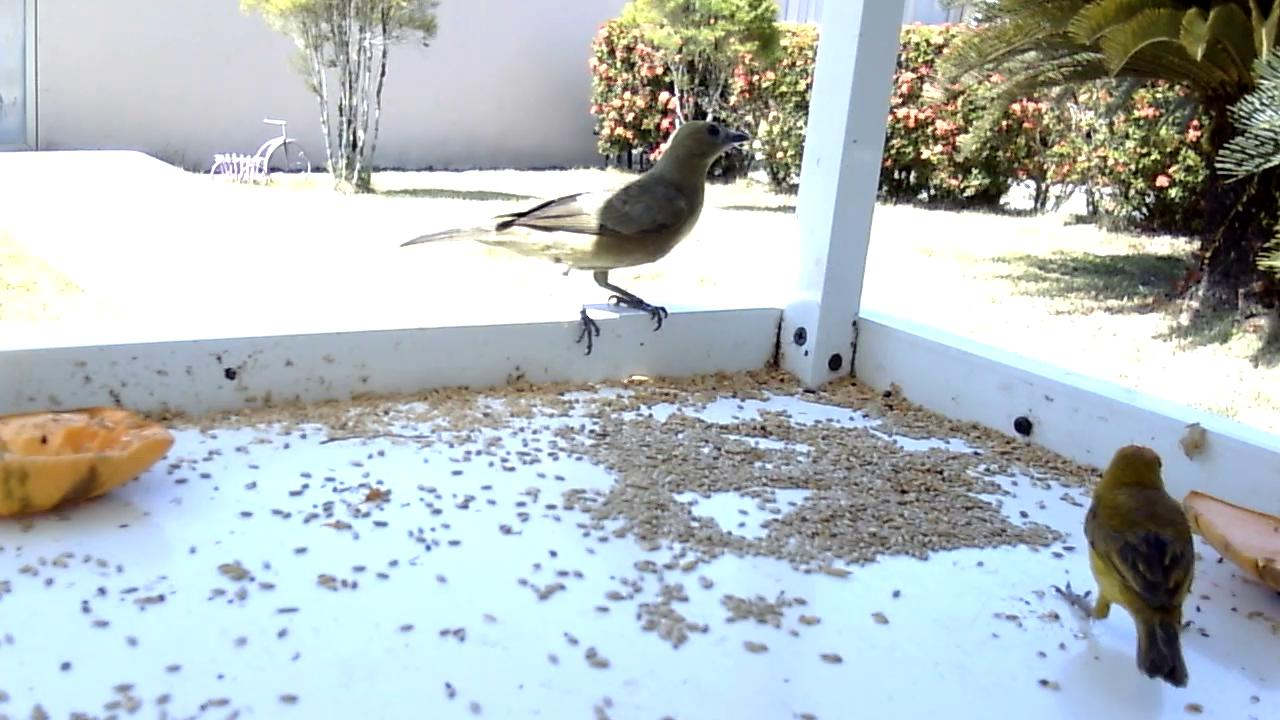canario_do_amazonas: (1050, 447, 1197, 690)
sanhaco_do_coqueiro: (400, 120, 754, 358)
